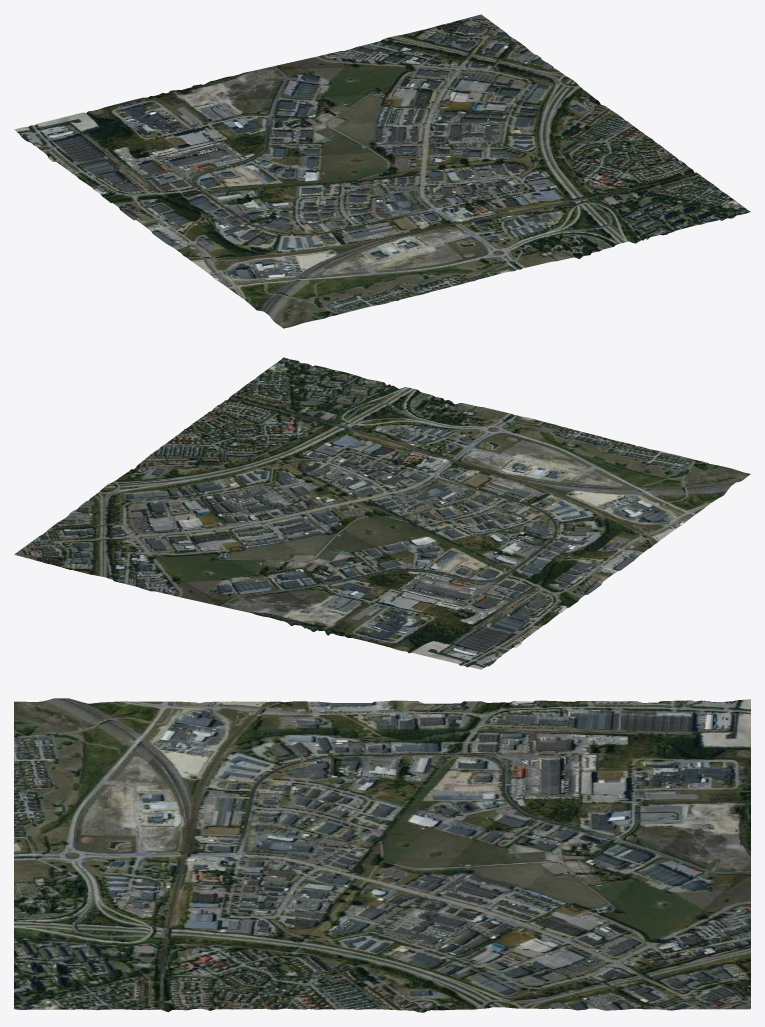
Rendered from map_10_248_426.dae.
3 renders of one model, top to bottom at view 1: azimuth 30°, elevation 25°; view 2: azimuth 150°, elevation 25°; view 3: azimuth 270°, elevation 25°, orthographic. The views are drawn at different scales.
Visible parts, largest first — view 1: Ter0; view 2: Ter0; view 3: Ter0.
Boxes of the visible parts, x1=… form: Ter0: x1=14, y1=14, x2=750, y2=328; Ter0: x1=14, y1=357, x2=750, y2=669; Ter0: x1=14, y1=698, x2=750, y2=1012.
Size of the model in its own units: 2044 by 2044 by 36.55.
Materials: 3 (3 with a texture image).
